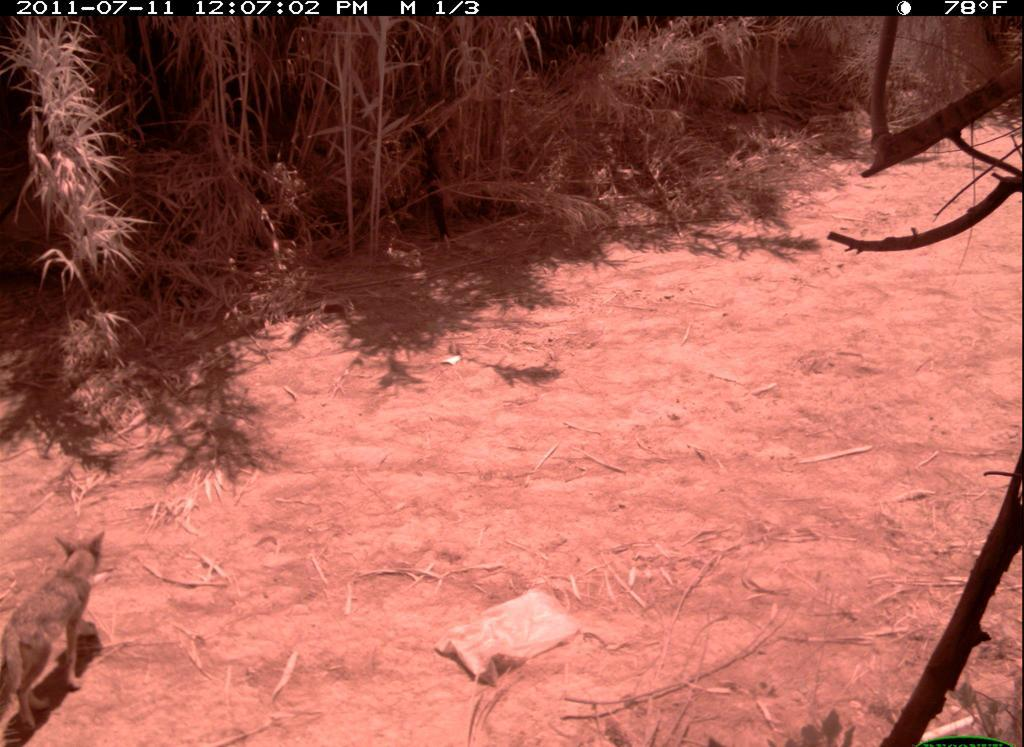coyote: (2, 529, 108, 742)
